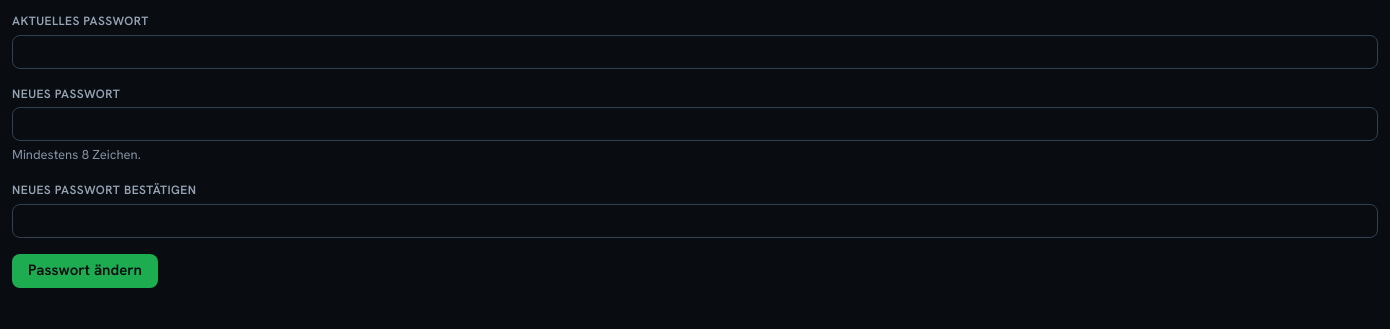
Test: ChangePasswordForm › shows a field error from the action next to its field
Click the button "Passwort ändern": [85, 271] box [12,254,158,288]
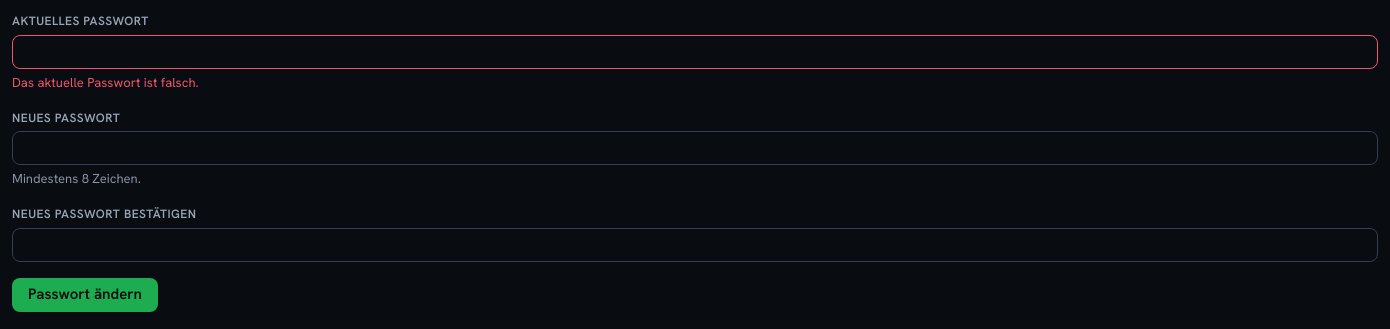
Expected: the text "Das aktuelle Passwort ist falsch." is shown, [12,74,199,91]
